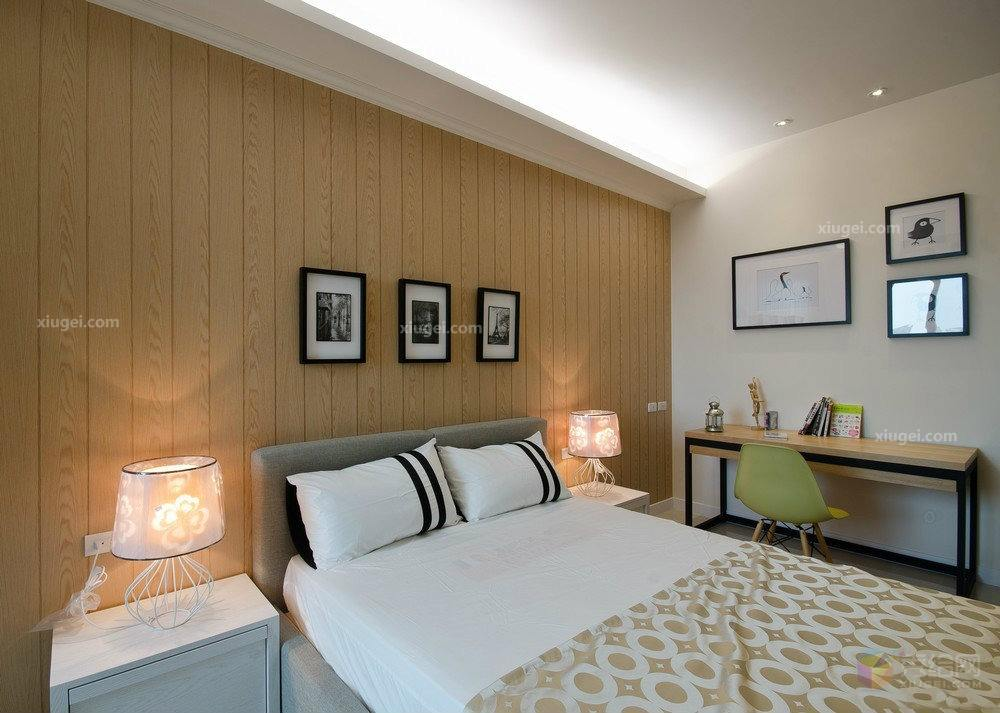床: (237, 504, 1000, 710)
枕头: (287, 441, 568, 556)
灯: (103, 449, 224, 638), (565, 407, 621, 500), (865, 82, 892, 101), (774, 115, 800, 131)
